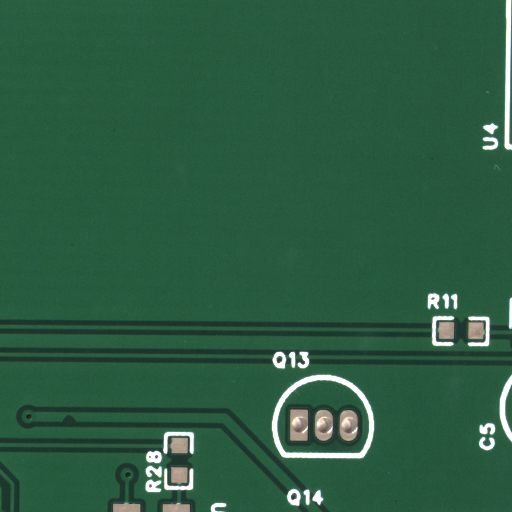Mouse_bite: (69, 418, 86, 427)
